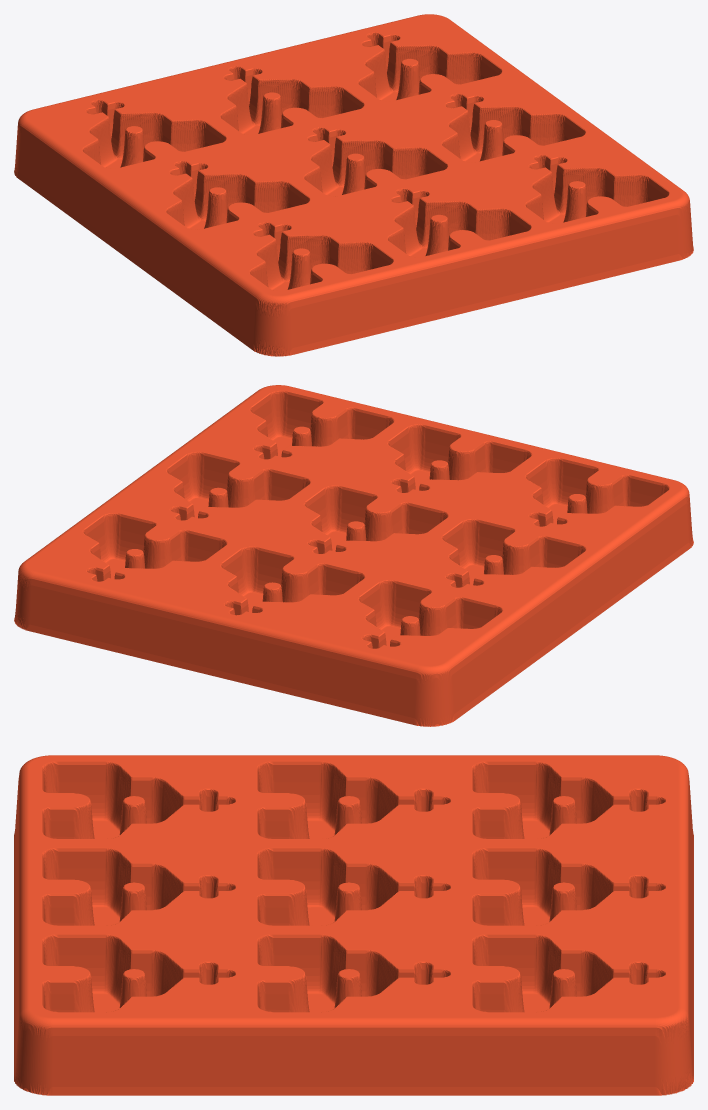
File: mold.glb
3 renders of one model, top to bottom at view 1: azimuth 30°, elevation 25°; view 2: azimuth 150°, elevation 25°; view 3: azimuth 270°, elevation 25°, orthographic. The views are drawn at different scales.
Parts seen in each view (by area): view 1: geometry_0; view 2: geometry_0; view 3: geometry_0.
Part boxes in pixels (box(x1,y1,x2,y2)): geometry_0: box(14, 14, 693, 356); geometry_0: box(14, 385, 693, 726); geometry_0: box(14, 755, 693, 1095).
Bounding box in the file's own units: 0.1523 × 0.0185 × 0.1595.
